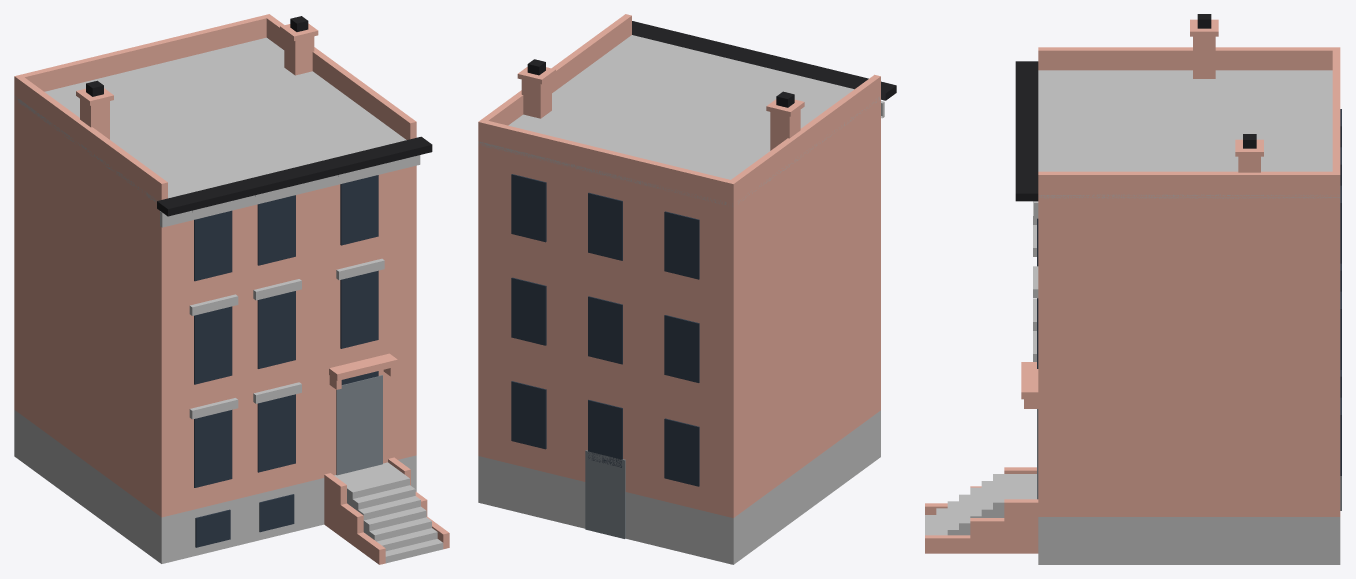
The model's file is generated.brownstone.gltf.
The picture shows the model from 3 angles, left to right: view 1: azimuth 30°, elevation 25°; view 2: azimuth 150°, elevation 25°; view 3: azimuth 270°, elevation 25°; orthographic projection. The views are drawn at different scales.
Visible parts, largest first — view 1: brownstone; view 2: brownstone; view 3: brownstone.
Boxes of the visible parts, x1,y1,x2,y2 form: brownstone: (14, 14, 449, 564); brownstone: (478, 14, 896, 564); brownstone: (925, 14, 1341, 564).
Size of the model in its own units: 8.3 by 12.5 by 11.04.
